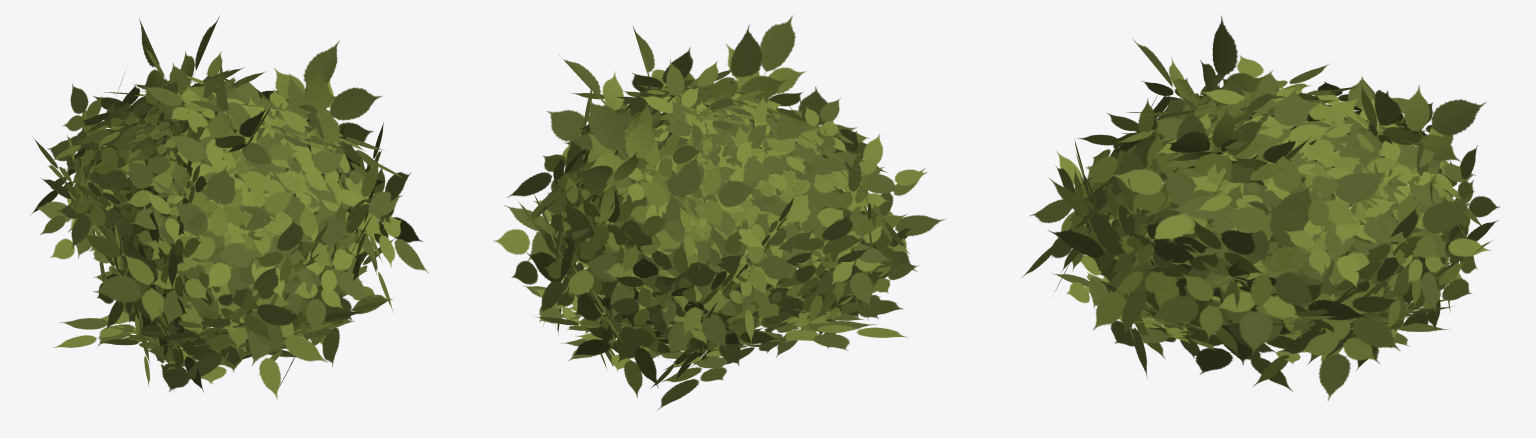
The model's file is Blackberry_Bush_3a.glb.
The picture shows the model from 3 angles, left to right: view 1: azimuth 30°, elevation 25°; view 2: azimuth 150°, elevation 25°; view 3: azimuth 270°, elevation 25°; orthographic projection. The views are drawn at different scales.
Parts seen in each view (by area): view 1: Blackberry_Bush_3a; view 2: Blackberry_Bush_3a; view 3: Blackberry_Bush_3a.
Boxes of the visible parts, x1,y1,x2,y2 form: Blackberry_Bush_3a: (31,15,428,399); Blackberry_Bush_3a: (493,15,945,409); Blackberry_Bush_3a: (1022,16,1499,400).
Bounding box in the file's own units: 1.37 × 1.11 × 1.46.
1 material, 1 textured.
